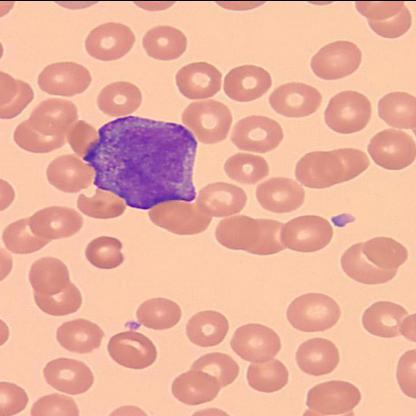Promyelocyte: (86, 115, 200, 209)
